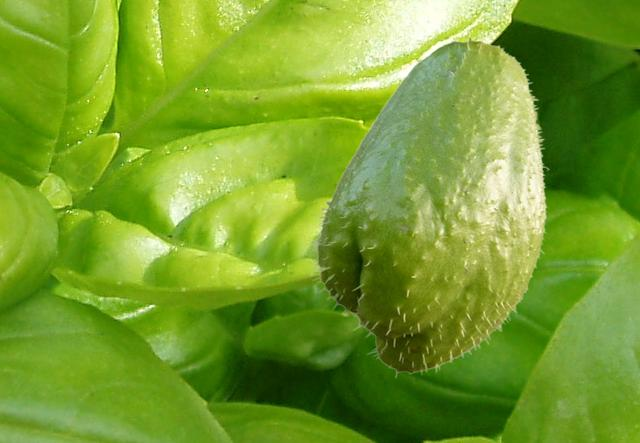sayote: (309, 38, 548, 377)
